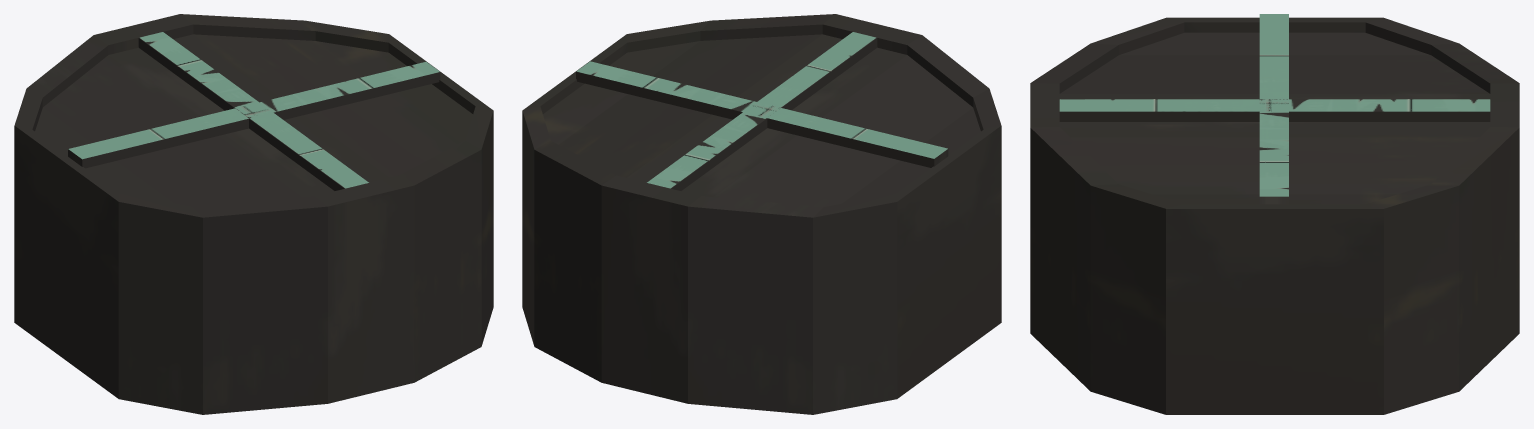
Rendered from sha_field.dae.
3 renders of one model, left to right at view 1: azimuth 30°, elevation 25°; view 2: azimuth 150°, elevation 25°; view 3: azimuth 270°, elevation 25°, orthographic. The views are drawn at different scales.
Visible parts, largest first — view 1: sha_field; view 2: sha_field; view 3: sha_field.
Part boxes in pixels (x1,y1,x2,y2): sha_field: (14, 14, 493, 414); sha_field: (522, 14, 1001, 414); sha_field: (1030, 14, 1519, 414).
Size of the model in its own units: 17.64 by 19.1 by 9.27.
